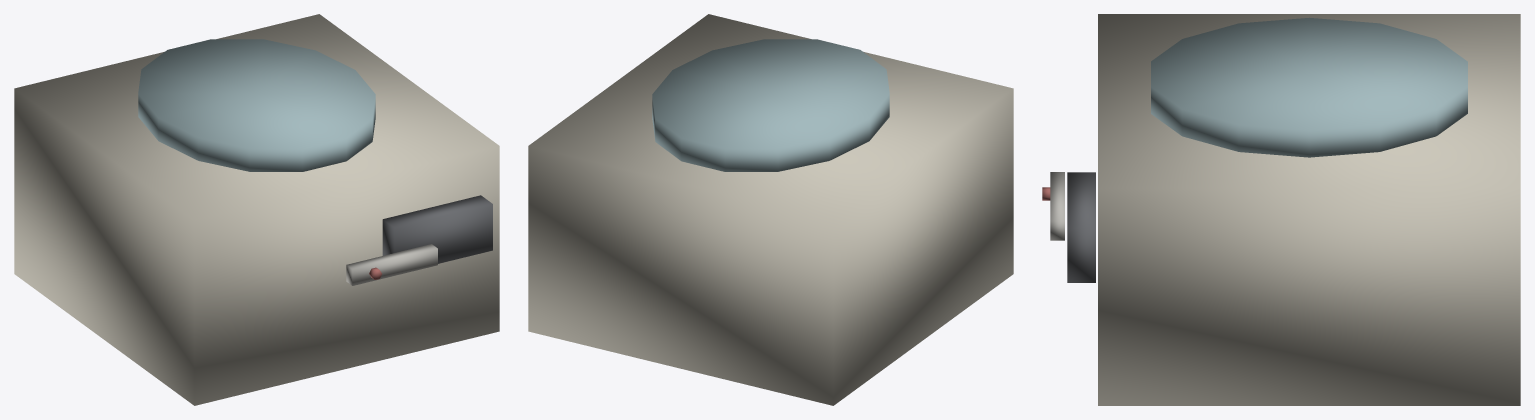
Rendered from centrifuge_bench_unit__deep.glb.
The picture shows the model from 3 angles, left to right: view 1: azimuth 30°, elevation 25°; view 2: azimuth 150°, elevation 25°; view 3: azimuth 270°, elevation 25°; orthographic projection. The views are drawn at different scales.
Parts seen in each view (by area): view 1: world; view 2: world; view 3: world.
Boxes of the visible parts, x1,y1,x2,y2 form: world: [14, 14, 499, 405]; world: [528, 14, 1013, 405]; world: [1042, 14, 1520, 405].
Bounding box in the file's own units: 0.62 × 0.405 × 0.718.
